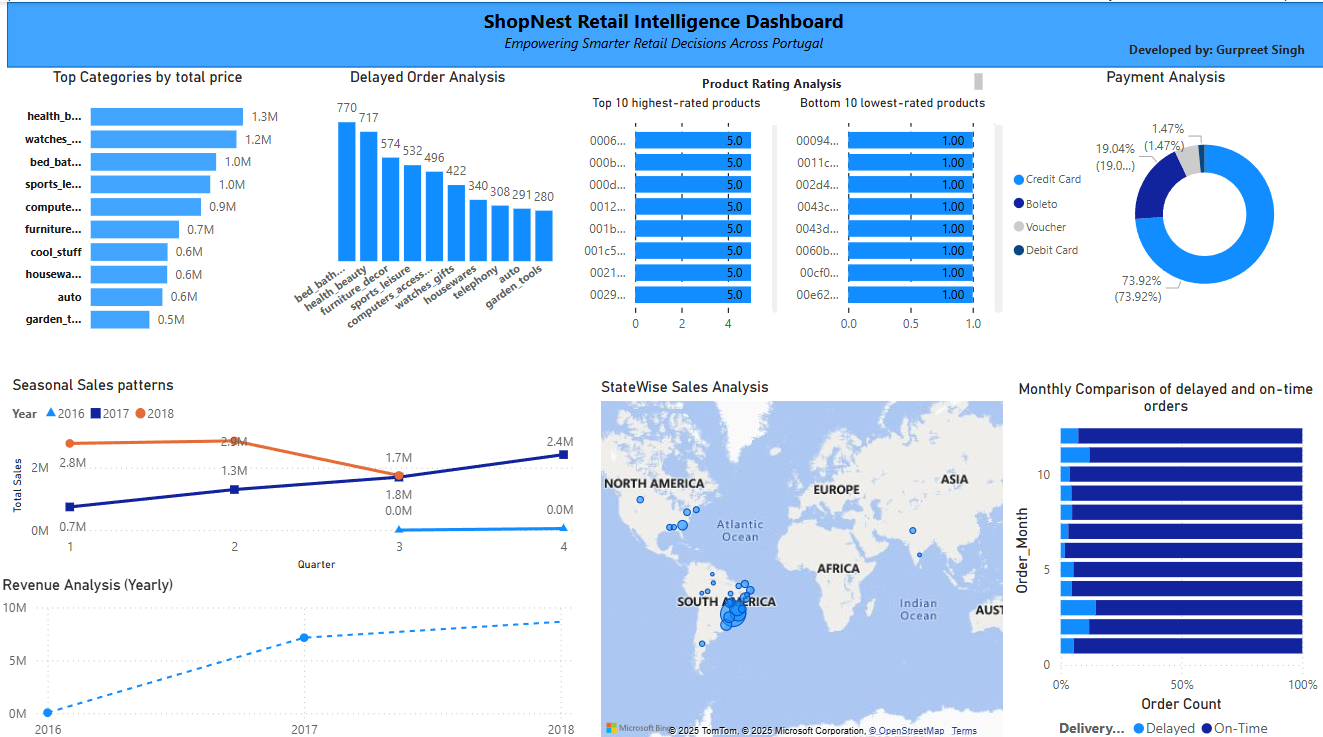

What the dashboard file says about the page in this screenshot:
{"tool":"powerbi","page":{"name":"Page 1","canvas":[1280,720],"ordinal":0},"visuals":[{"type":"shape","box":[9.4,0,1270.8,63.3],"z":0},{"type":"barChart","title":"Top Categories by total price","fields":{"Y":["Order_items_dataset.Total Sales"],"Category":["Product_Merge.Category"]},"box":[9.7,63.9,271.4,265.4],"z":1000},{"type":"columnChart","title":"Delayed Order Analysis","fields":{"Category":["Product_Merge.Category"],"Y":["Order_items_dataset.Delayed Orders by Category"]},"box":[281.1,63.9,269,265.4],"z":2000},{"type":"hundredPercentStackedBarChart","title":"Monthly Comparison of delayed and on-time orders","fields":{"Category":["Orders_dataset.Order_Month"],"Y":["Order_items_dataset.Order Count"],"Series":["Order_items_dataset.Delivery Status"]},"box":[976,364.3,304,355.9],"z":3000},{"type":"donutChart","title":"Payment Analysis","fields":{"Category":["Order_payments_dataset.payment_type"],"Y":["Order_payments_dataset.Payment Count"]},"box":[976,63.9,304,265.4],"z":4000},{"type":"barChart","title":"Top 10 highest-rated products","fields":{"Category":["Order_review.product_id"],"Y":["Sum(Order_review.Average_rating)"]},"box":[550.1,90.5,211.1,238.9],"z":5000},{"type":"barChart","title":"Bottom 10 lowest-rated products","fields":{"Category":["Order_review.product_id"],"Y":["Sum(Order_review.Average_rating)"]},"box":[752.8,90.5,223.2,238.9],"z":6000},{"type":"map","title":"StateWise Sales Analysis","fields":{"Category":["Customers_dataset.customer_state"],"Size":["Order_items_dataset.Total Sales"]},"box":[577.9,363.1,398.1,357.1],"z":7000},{"type":"lineChart","title":"Seasonal Sales patterns","fields":{"Category":["Order_Orderitems.Quarter"],"Series":["Order_Orderitems.Year"],"Y":["Order_Orderitems.total price"]},"box":[9.5,360.6,552.4,193.1],"z":8000},{"type":"lineChart","title":"Revenue Analysis (Yearly)","fields":{"Y":["Order_items_dataset.Total Revenue"],"Category":["Orders_dataset.Order_Year"]},"box":[0,553.8,562.2,166.5],"z":9000},{"type":"textbox","box":[546.5,63.9,410.2,26.5],"z":10000},{"type":"textbox","box":[333.6,0,621.2,59.4],"z":11000},{"type":"textbox","box":[1075,31.1,205.3,32.4],"z":12000}]}

Visuals, with their boxes in screenshot pixels (x1, y1, x2, y2), scaled from the page's 1280x720 canvas onto the 1323x737 screenshot:
shape: locate(10, 0, 1322, 65)
"Top Categories by total price" barChart: locate(10, 65, 291, 337)
"Delayed Order Analysis" columnChart: locate(291, 65, 569, 337)
"Monthly Comparison of delayed and on-time orders" hundredPercentStackedBarChart: locate(1009, 373, 1322, 736)
"Payment Analysis" donutChart: locate(1009, 65, 1322, 337)
"Top 10 highest-rated products" barChart: locate(569, 93, 787, 337)
"Bottom 10 lowest-rated products" barChart: locate(778, 93, 1009, 337)
"StateWise Sales Analysis" map: locate(597, 372, 1009, 736)
"Seasonal Sales patterns" lineChart: locate(10, 369, 581, 567)
"Revenue Analysis (Yearly)" lineChart: locate(0, 567, 581, 736)
textbox: locate(565, 65, 989, 93)
textbox: locate(345, 0, 987, 61)
textbox: locate(1111, 32, 1322, 65)
